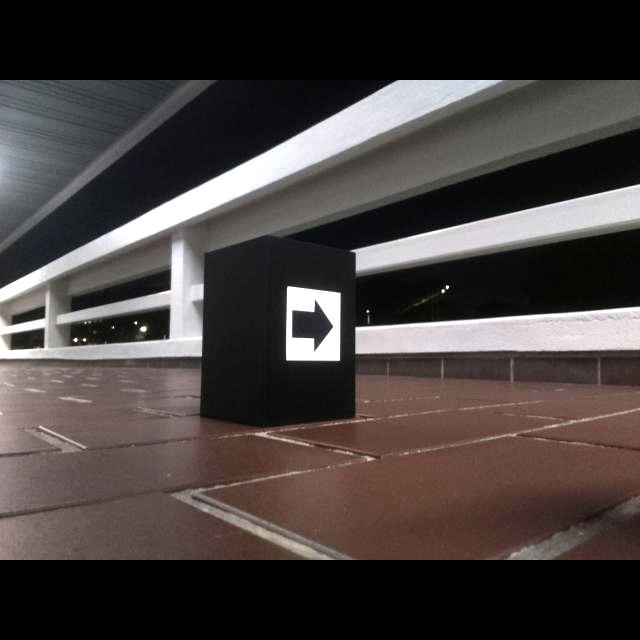RIGHT: (291, 300, 333, 352)
